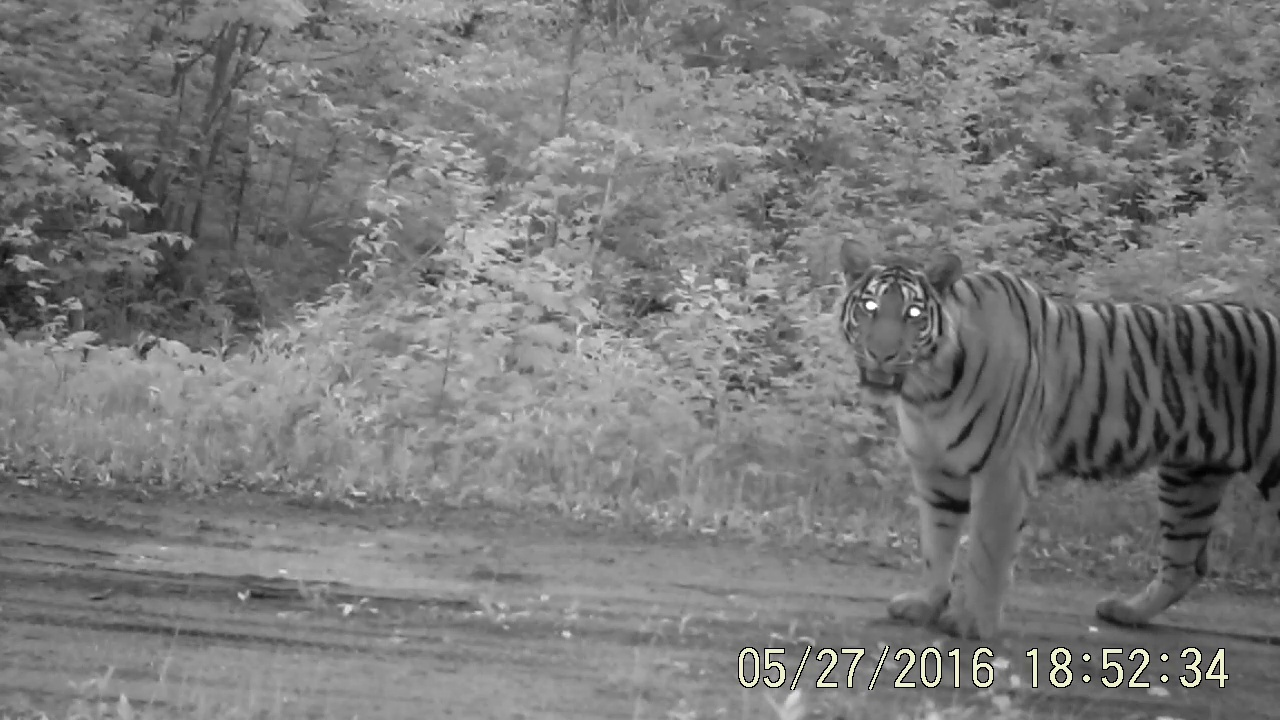Tiger: (818, 189, 1280, 642)
